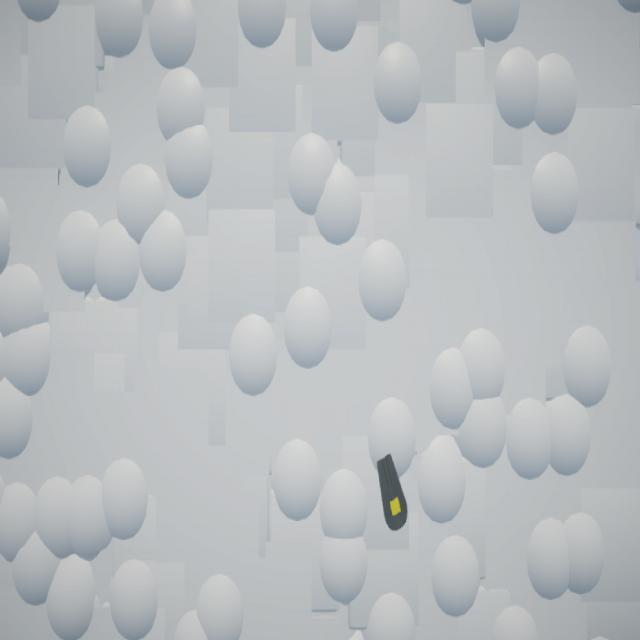handle_folk: (378, 454, 409, 533)
